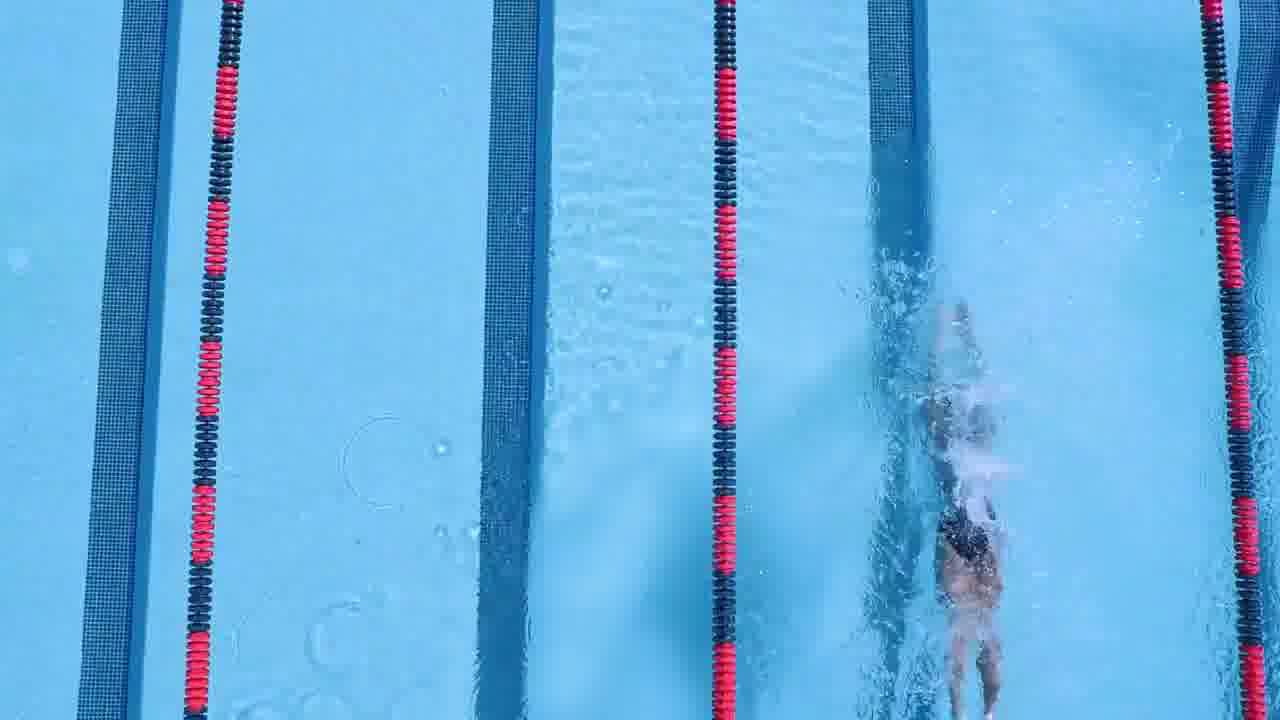human: (892, 335, 1046, 701)
